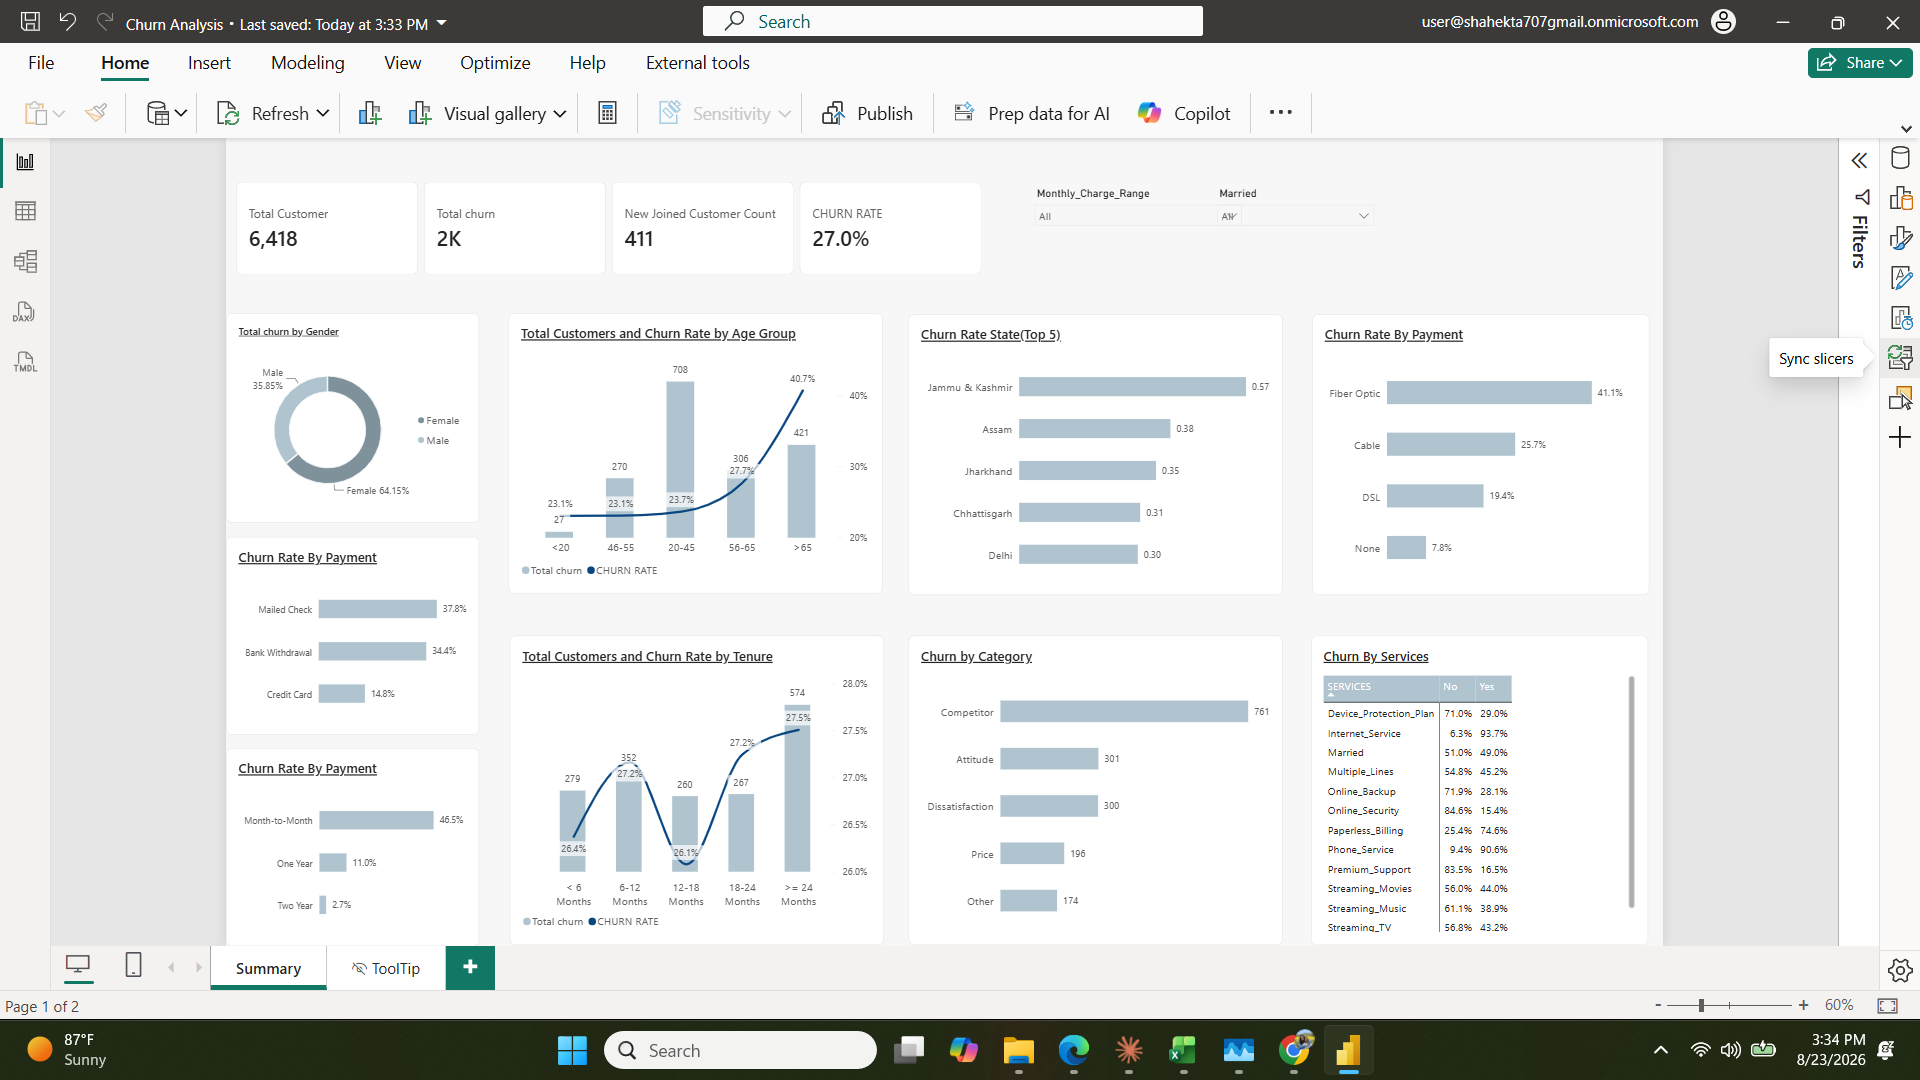

Layout of this report page (visuals, bound fields, positions):
{"tool":"powerbi","page":{"name":"Summary","canvas":[1920,1080],"ordinal":0},"visuals":[{"type":"cardVisual","fields":{"Data":["_Measures.Total Customer","_Measures.Total churn","_Measures.New Joined Customer Count","_Measures.CHURN RATE"]},"box":[12.7,57.9,998.9,124.9],"z":0},{"type":"donutChart","title":"Total churn by Gender","fields":{"Category":["prod_churn.Gender"],"Y":["_Measures.Total churn"]},"box":[0,234.5,338.8,280.1],"z":4},{"type":"lineStackedColumnComboChart","title":"Total Customers and Churn Rate by Age Group","fields":{"Category":["Age.Custom"],"Y":["_Measures.Total churn"],"Y2":["_Measures.CHURN RATE"]},"box":[377.8,234.5,500,375],"z":5},{"type":"lineStackedColumnComboChart","title":"Total Customers and Churn Rate by Tenure","fields":{"Category":["Tenure_mapping_group.Tenure_group"],"Y":["_Measures.Total churn"],"Y2":["_Measures.CHURN RATE"]},"box":[378.7,664.4,499.9,413.4],"z":6},{"type":"clusteredBarChart","title":"Churn Rate State(Top 5)","fields":{"Category":["prod_churn.State"],"Y":["AGE_MAPPING_GROUP.TOP 5"]},"box":[912.1,235.3,500,375],"z":7},{"type":"clusteredBarChart","title":"Churn by Category","fields":{"Category":["prod_churn.Churn_Category"],"Y":["_Measures.Total churn"]},"box":[911.1,664.4,499.9,413.4],"z":8},{"type":"pivotTable","title":"Churn By Services","fields":{"Columns":["SERVICES.YESNO"],"Rows":["SERVICES.SERVICES"],"Values":["Sum(SERVICES.Churn_status)"]},"box":[1450,664.4,450.1,413.4],"z":10},{"type":"slicer","fields":{"Values":["prod_churn.Monthly_Charge_Range"]},"box":[1074.9,65.1,286.6,58.6],"z":11},{"type":"clusteredBarChart","title":"Churn Rate By Payment","fields":{"Category":["prod_churn.Payment_Method"],"Y":["_Measures.CHURN RATE"]},"box":[0,532,338.8,264.9],"z":12},{"type":"slicer","fields":{"Values":["prod_churn.Married"]},"box":[1393.6,68,219.3,55.7],"z":13},{"type":"clusteredBarChart","title":"Churn Rate By Payment","fields":{"Category":["prod_churn.Contract"],"Y":["_Measures.CHURN RATE"]},"box":[0,814.3,338.8,264.9],"z":14},{"type":"clusteredBarChart","title":"Churn Rate By Payment","fields":{"Category":["prod_churn.Internet_Type"],"Y":["_Measures.CHURN RATE"]},"box":[1451.3,235.3,450,375],"z":15}]}

Visuals, with their boxes on the page's 1920x1080 design canvas (x1, y1, x2, y2). These are canvas units, not pixel positions in the 1920x1080 screenshot, which may show the page scaled, cropped or inside an application window:
cardVisual - _Measures.Total Customer x _Measures.Total churn: bbox=(13, 58, 1012, 183)
"Total churn by Gender" donutChart: bbox=(0, 234, 339, 515)
"Total Customers and Churn Rate by Age Group" lineStackedColumnComboChart: bbox=(378, 234, 878, 610)
"Total Customers and Churn Rate by Tenure" lineStackedColumnComboChart: bbox=(379, 664, 879, 1078)
"Churn Rate State(Top 5)" clusteredBarChart: bbox=(912, 235, 1412, 610)
"Churn by Category" clusteredBarChart: bbox=(911, 664, 1411, 1078)
"Churn By Services" pivotTable: bbox=(1450, 664, 1900, 1078)
slicer - prod_churn.Monthly_Charge_Range: bbox=(1075, 65, 1362, 124)
"Churn Rate By Payment" clusteredBarChart: bbox=(0, 532, 339, 797)
slicer - prod_churn.Married: bbox=(1394, 68, 1613, 124)
"Churn Rate By Payment" clusteredBarChart: bbox=(0, 814, 339, 1079)
"Churn Rate By Payment" clusteredBarChart: bbox=(1451, 235, 1901, 610)
